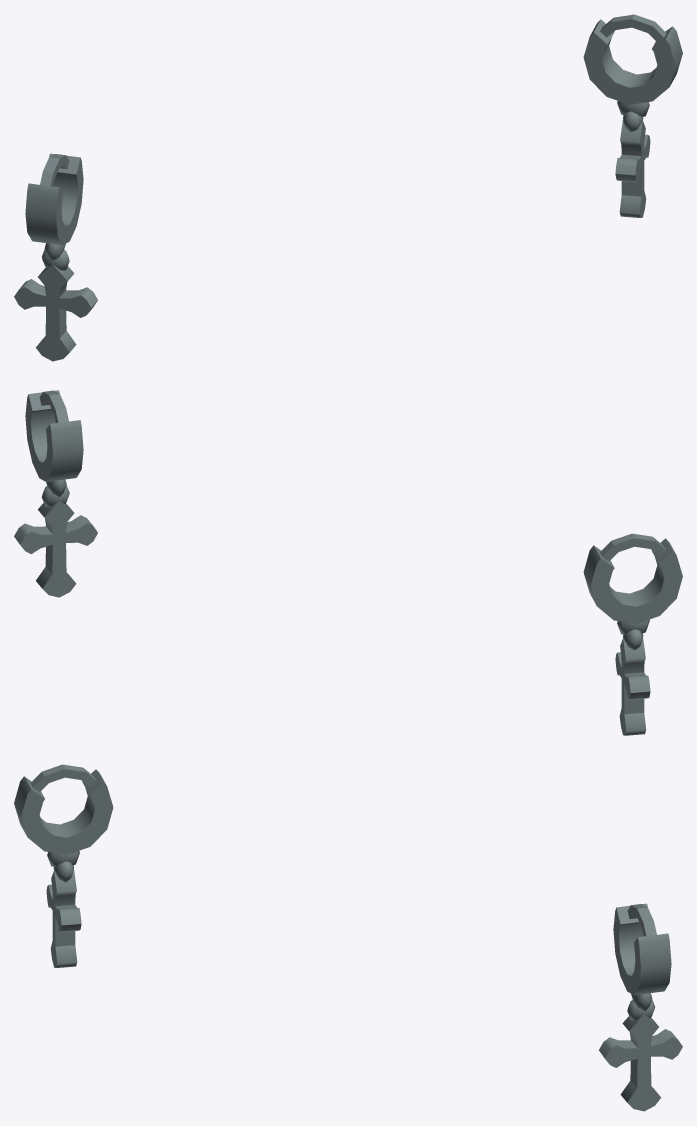
Rendered from Earring_23.fbx.
The picture shows the model from 3 angles, top to bottom: view 1: azimuth 30°, elevation 25°; view 2: azimuth 150°, elevation 25°; view 3: azimuth 330°, elevation 25°; orthographic projection.
Parts seen in each view (by area): view 1: Earring_23; view 2: Earring_23; view 3: Earring_23.
Boxes of the visible parts, left/top/right/bottom form: Earring_23: left=14, top=14, right=682, bottom=361; Earring_23: left=14, top=390, right=682, bottom=735; Earring_23: left=14, top=764, right=682, bottom=1111.
Bounding box in the file's own units: 57.17 × 16.55 × 6.63.
